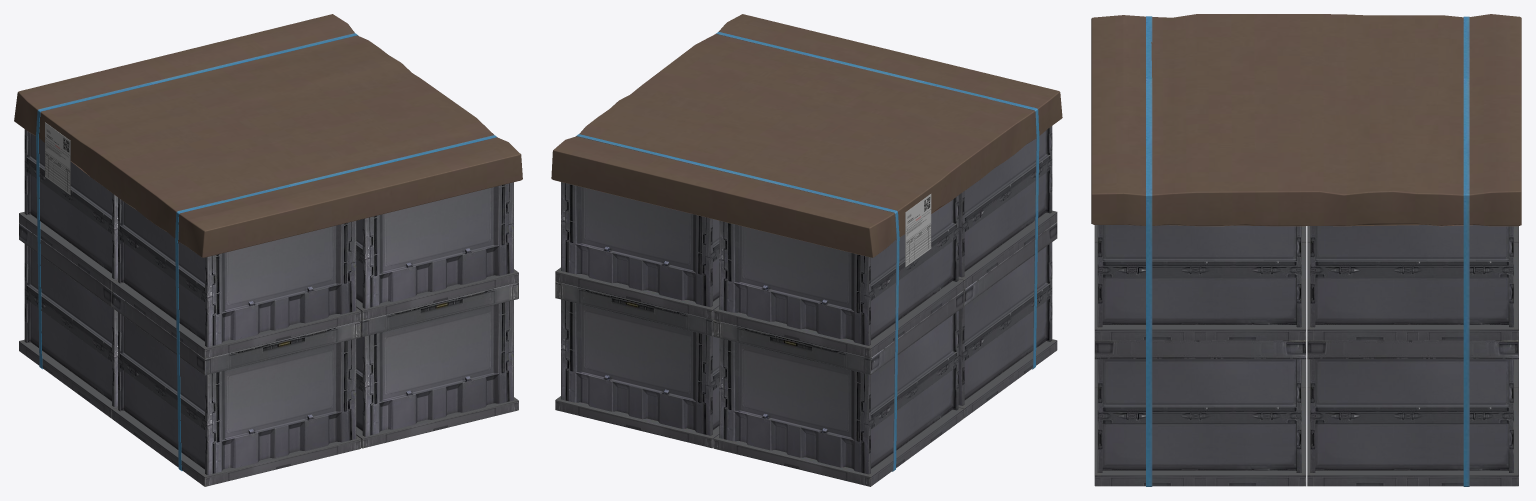
Rendered from PlasticBox_A.glb.
3 renders of one model, left to right at view 1: azimuth 30°, elevation 25°; view 2: azimuth 150°, elevation 25°; view 3: azimuth 270°, elevation 25°, orthographic. The views are drawn at different scales.
Parts seen in each view (by area): view 1: PlasticBox_A; view 2: PlasticBox_A; view 3: PlasticBox_A.
Boxes of the visible parts, bbox=[...] form: PlasticBox_A: bbox=[14, 14, 522, 486]; PlasticBox_A: bbox=[551, 14, 1062, 486]; PlasticBox_A: bbox=[1091, 14, 1521, 486].
Bounding box in the file's own units: 1.04 × 0.8005 × 1.05.
Materials: 1 (1 with a texture image).
